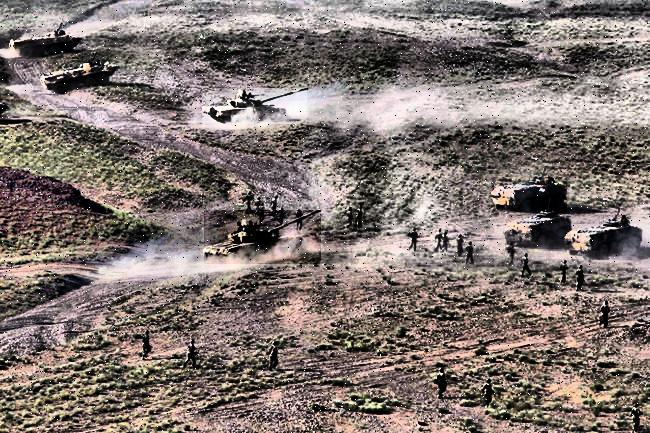military-vehicle: (204, 211, 321, 265), (203, 88, 308, 124), (568, 216, 646, 259), (491, 178, 567, 216), (41, 60, 118, 96), (506, 215, 572, 251), (11, 29, 84, 59)
